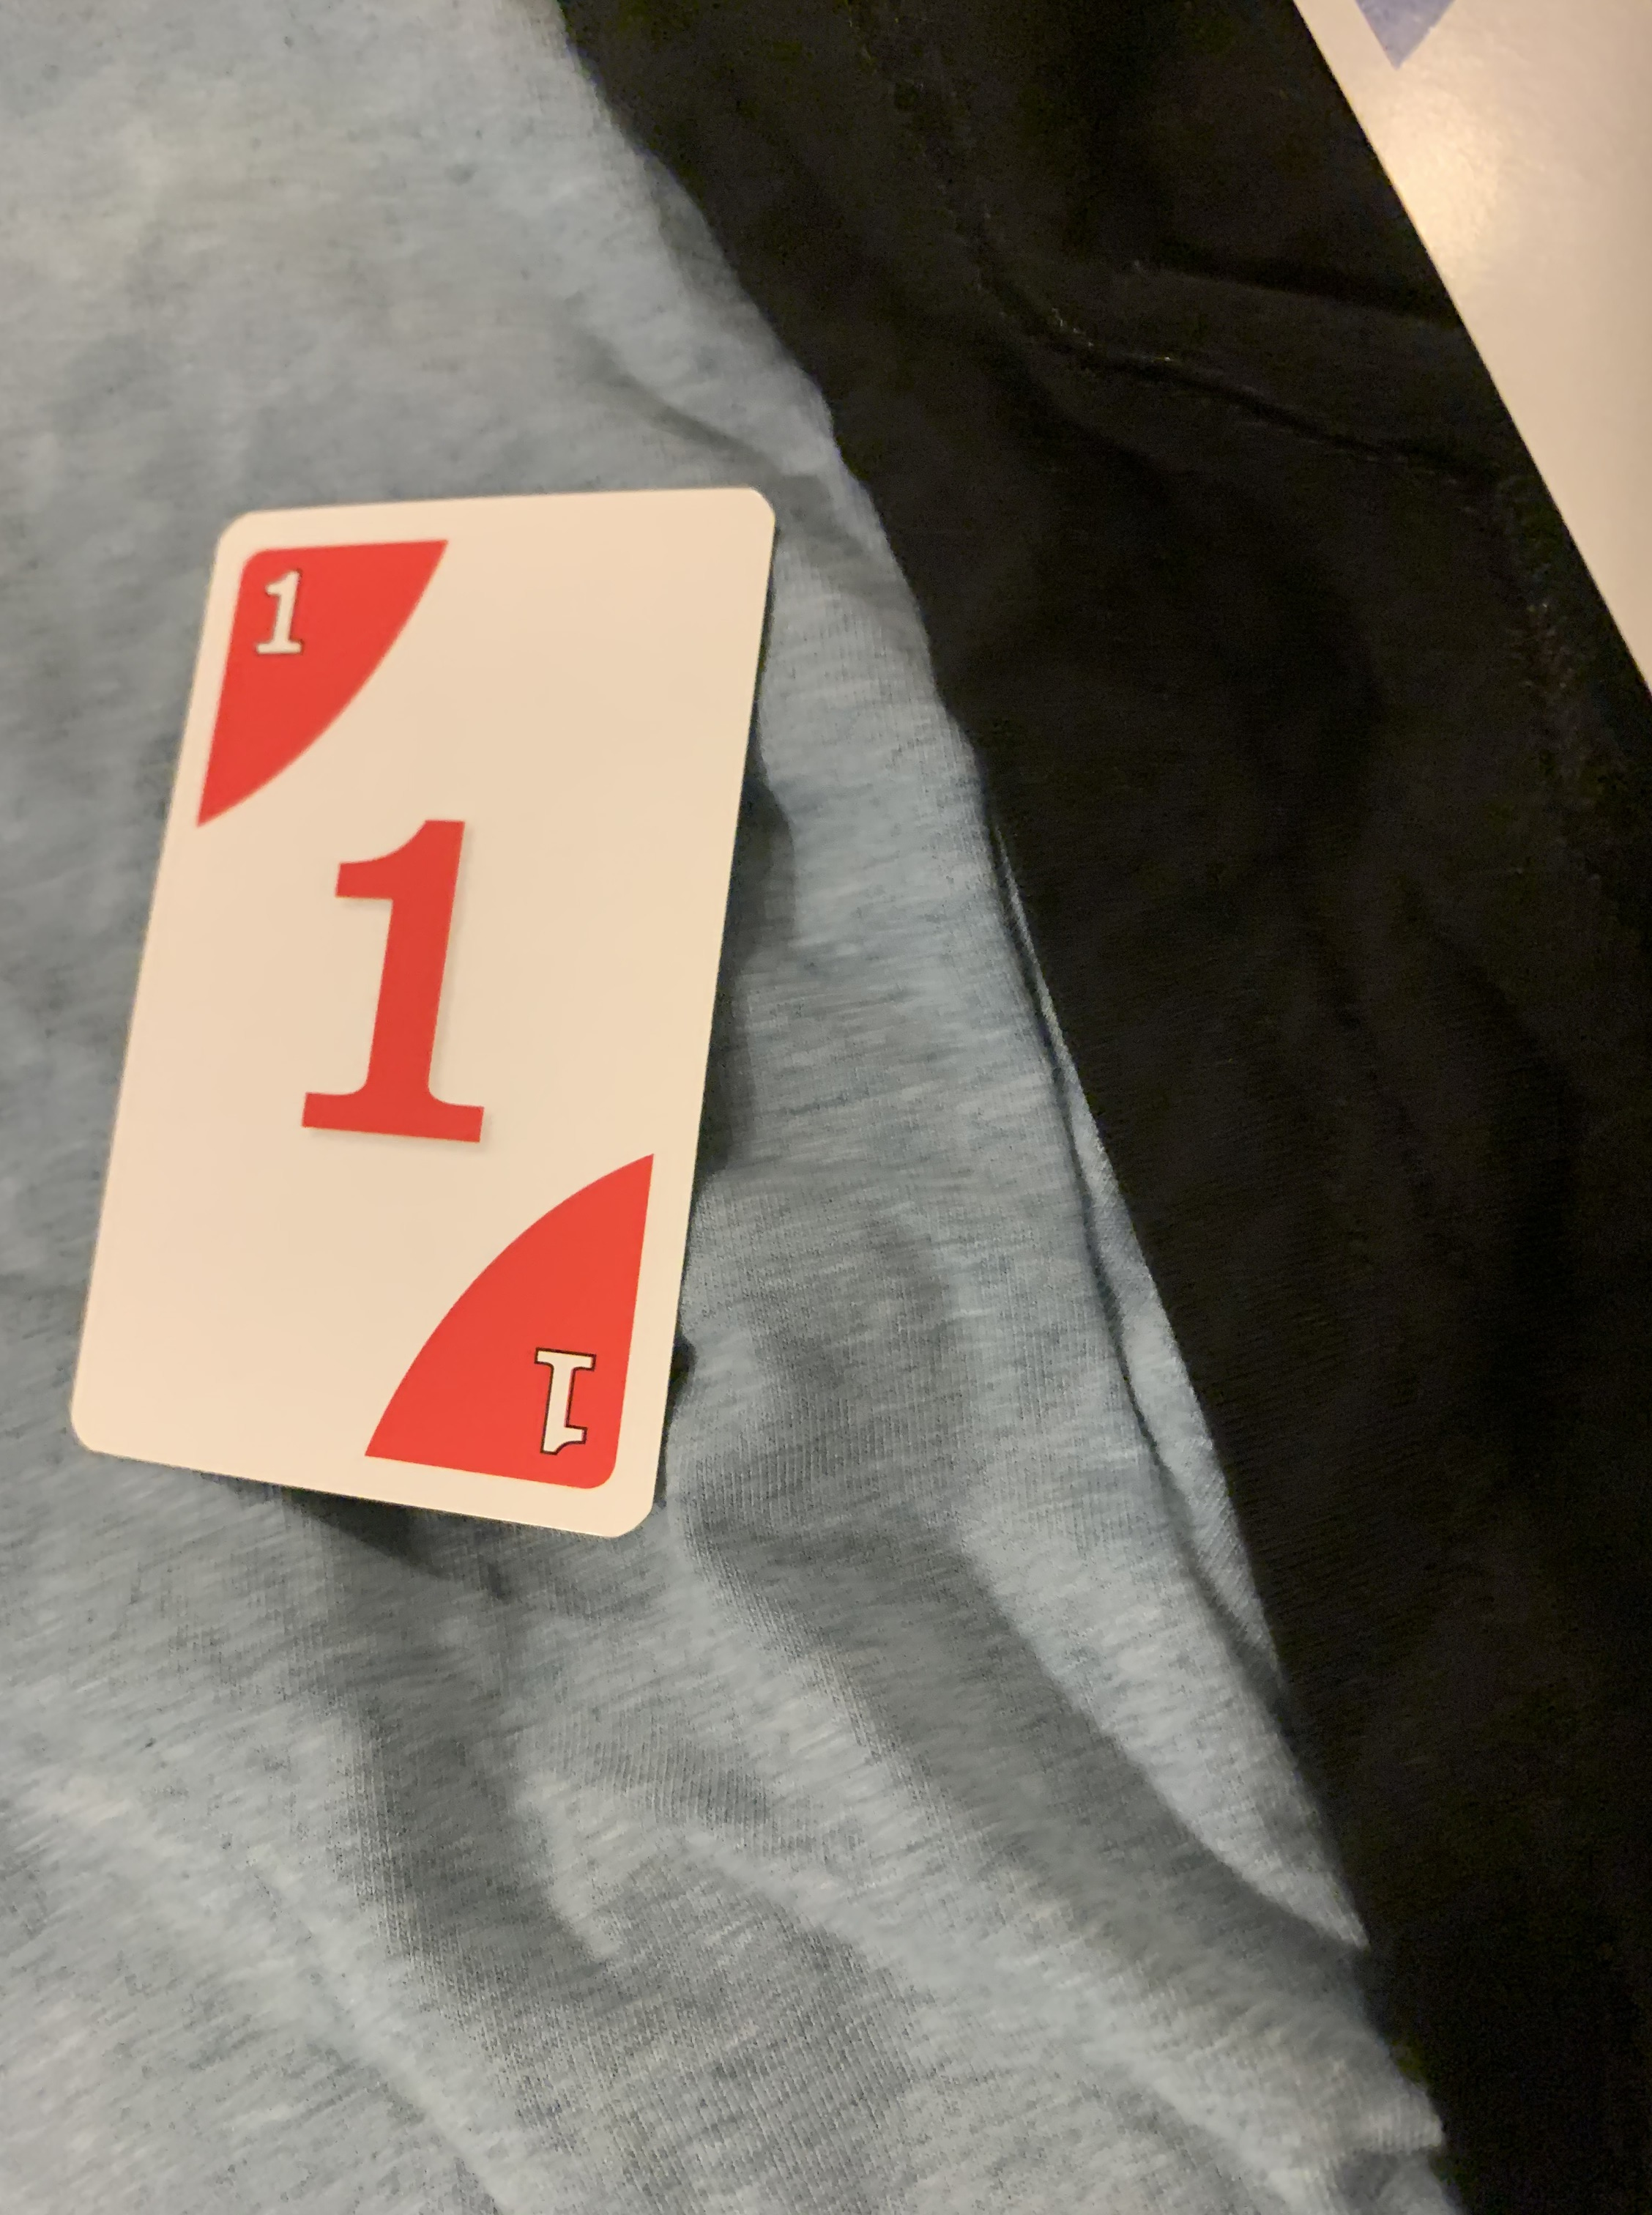one: (68, 486, 777, 1547)
